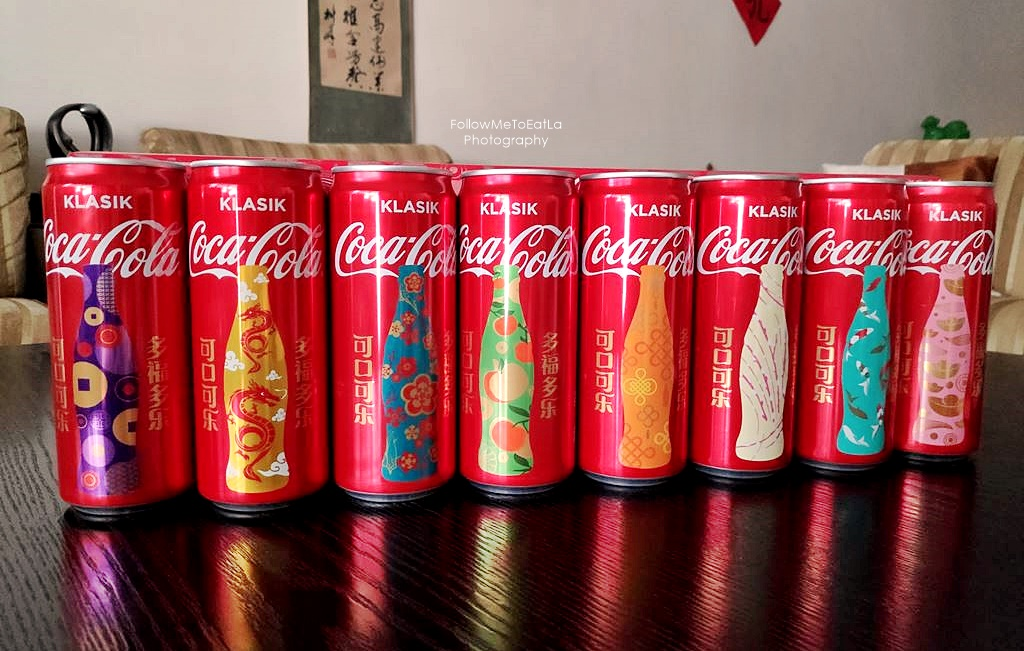cocacola_blue_fish: (807, 178, 904, 469)
cocacola_blue_flowers: (329, 160, 455, 507)
cocacola_green_apples: (463, 166, 576, 495)
cocacola_pink_feather: (901, 178, 989, 460)
cocacola_violet_balls: (44, 154, 189, 519)
cocacola_white_lines: (699, 175, 786, 485)
cocacola_yellow_dragons: (185, 151, 326, 513)
cocacola_yellow_pattern: (586, 170, 683, 488)
